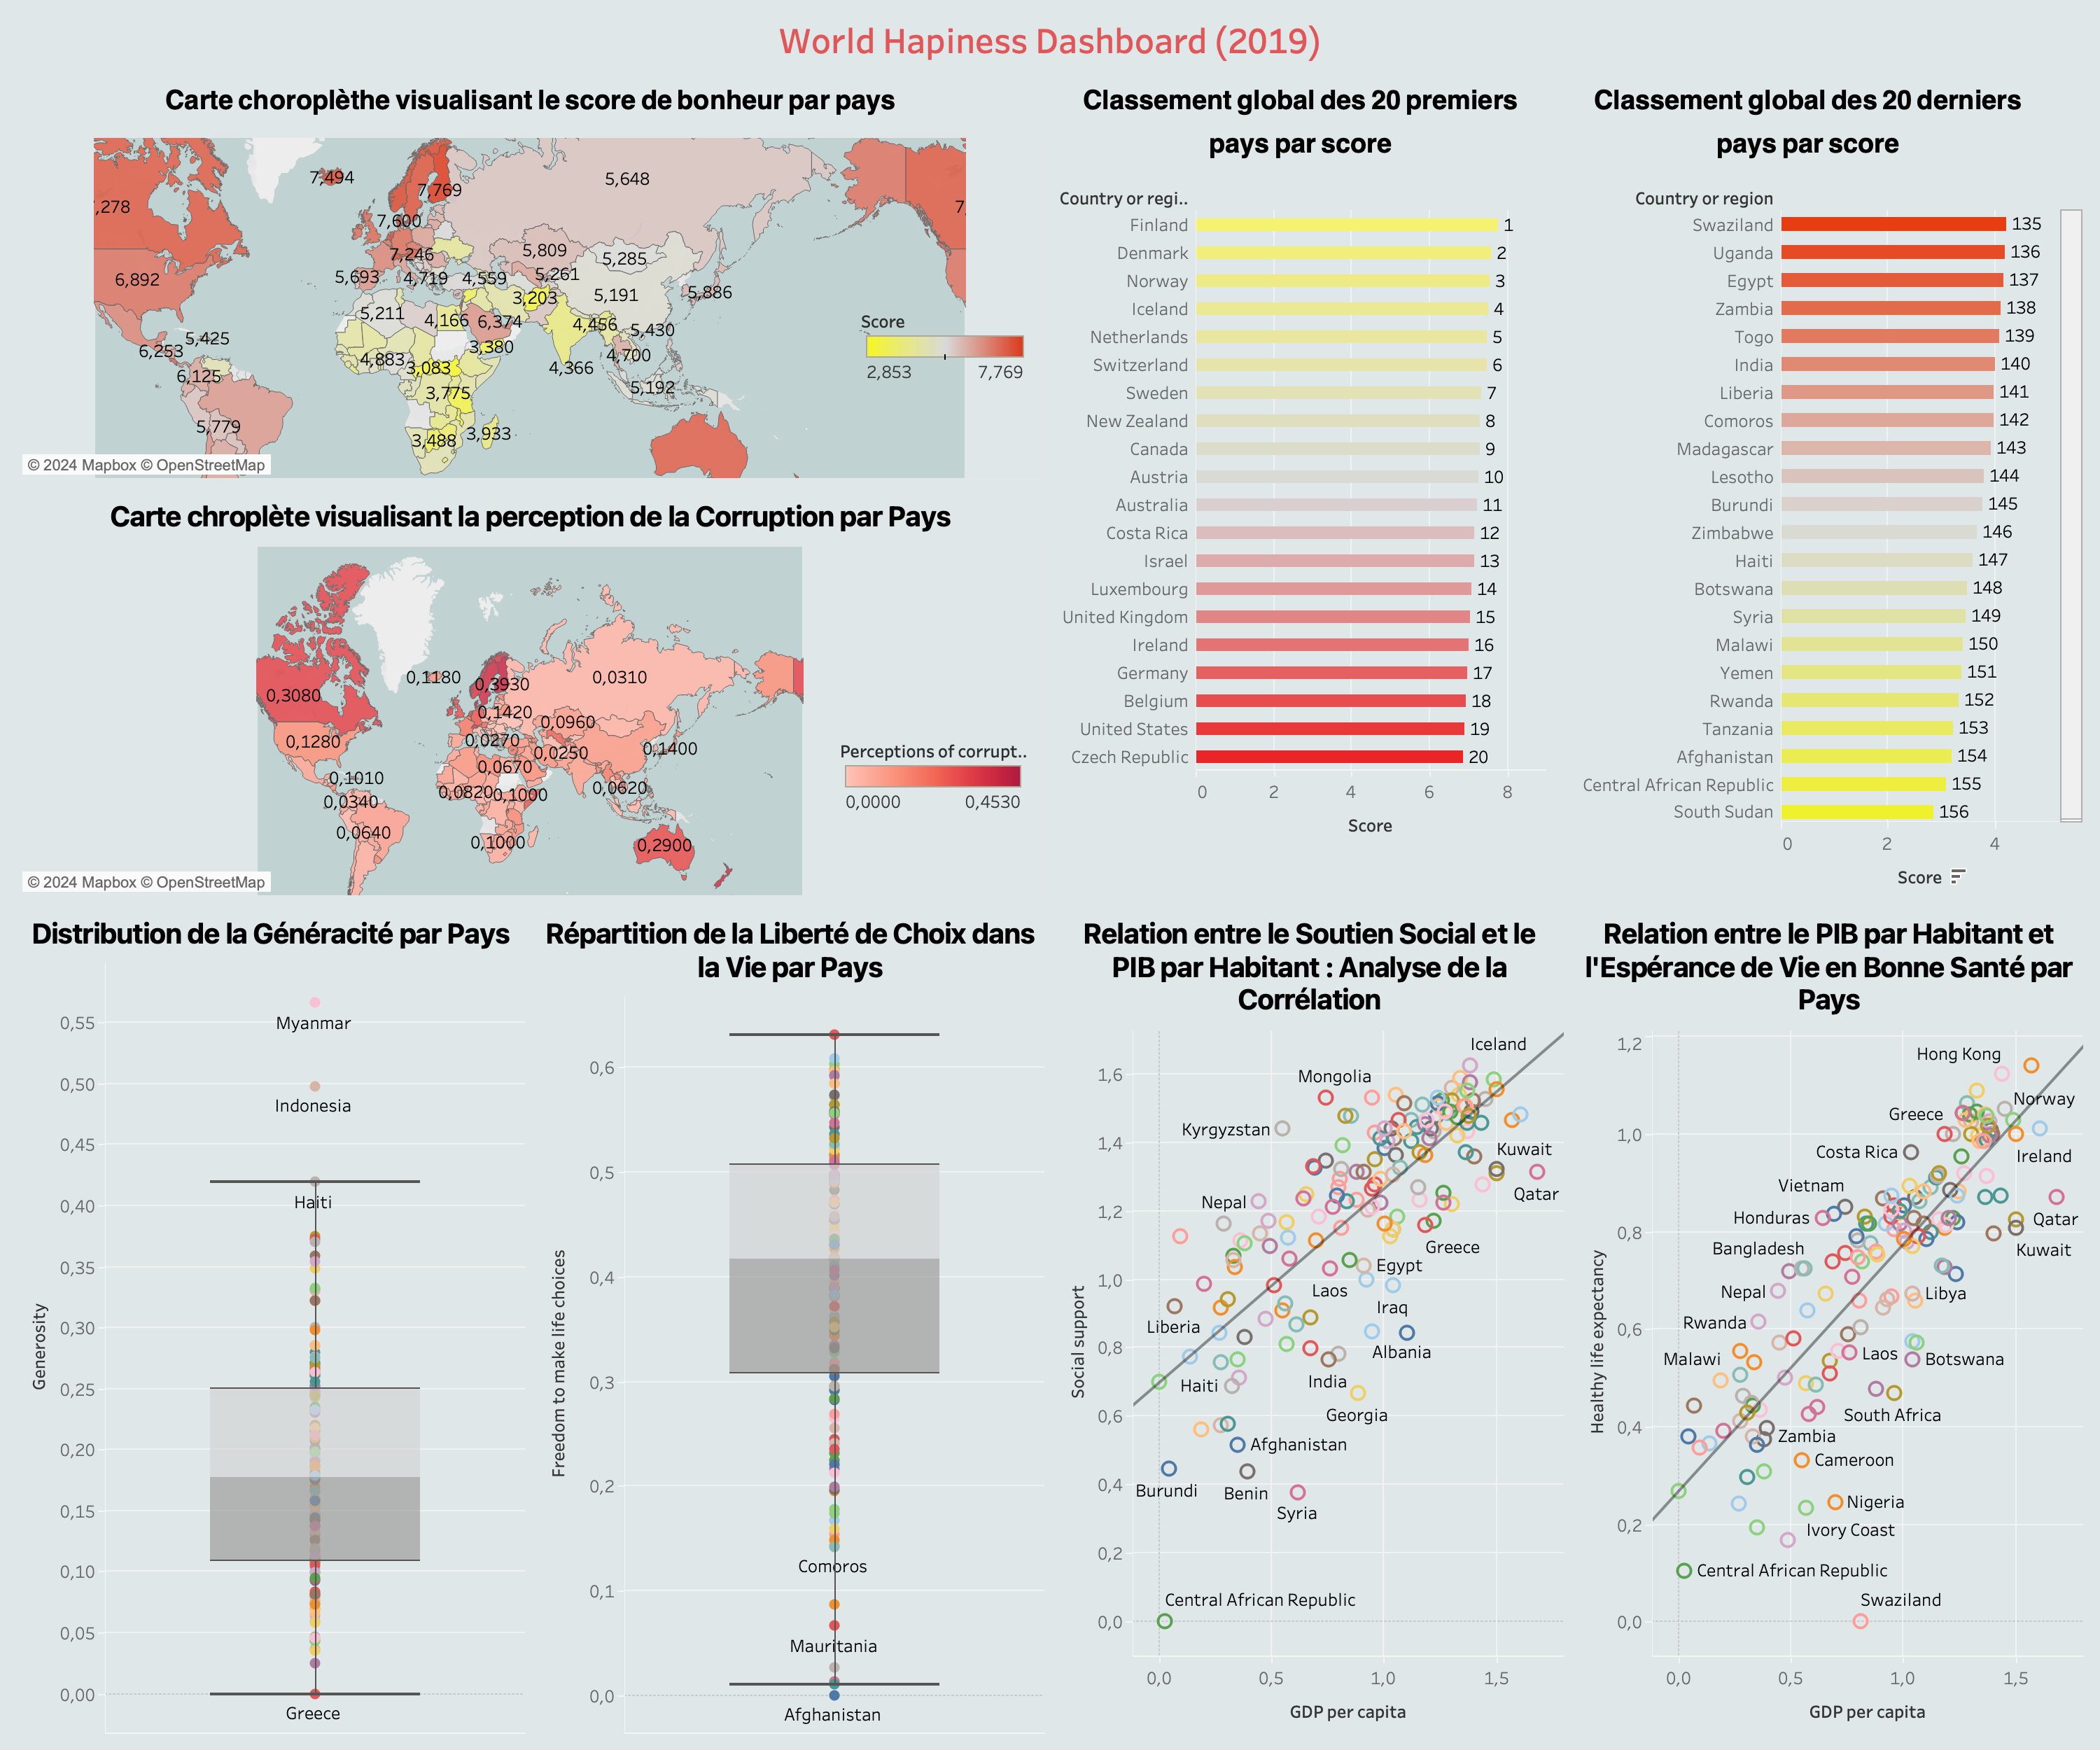

What the dashboard file says about the page in this screenshot:
{"tool":"tableau","page":{"name":"Tableau de bord 1","canvas":[1500,1250],"ordinal":0},"visuals":[{"type":"title","box":[8,8,1484,41]},{"type":"worksheet","title":"Carte","mark":"Multipolygon","box":[8,49,742,298.2]},{"type":"worksheet","title":"Classement","mark":"Bar","rows":["Country or region"],"cols":["Score"],"box":[750,49,358,596.5]},{"type":"worksheet","title":"Feuille 8","mark":"Automatic","rows":["Country or region"],"cols":["Score"],"box":[1108,49,384,596.5]},{"type":"legend","title":"Carte","param":"[federated.0d38yqx0vl0c0c1575q0n09ybwxd].[sum:Score:qk]","box":[615,217.5,121.2,87.5]},{"type":"worksheet","title":"Carte 2","mark":"Automatic","box":[8,347.2,742,298.3]},{"type":"legend","title":"Carte 2","param":"[federated.0d38yqx0vl0c0c1575q0n09ybwxd].[sum:Perceptions of corruption:qk]","box":[600,523.8,133.8,78.8]},{"type":"worksheet","title":"Box plot 1","mark":"Circle","rows":["Generosity"],"box":[8,645.5,370.9,596.5]},{"type":"worksheet","title":"Box plot 2","mark":"Circle","rows":["Freedom to make life choices"],"box":[378.9,645.5,371.1,596.5]},{"type":"worksheet","title":"Relation 1","mark":"Automatic","rows":["Social support"],"cols":["GDP per capita"],"box":[750,645.5,371,596.5]},{"type":"worksheet","title":"Relation ","mark":"Automatic","rows":["Healthy life expectancy"],"cols":["GDP per capita"],"box":[1121,645.5,371,596.5]}]}

Visuals, with their boxes in screenshot pixels (x1, y1, x2, y2), scaled from the page's 1500x1250 canvas onto the 2100x1750 screenshot:
title: 11,11,2089,69
"Carte" worksheet (Multipolygon marks): 11,69,1050,486
"Classement" worksheet (Bar marks): 1050,69,1551,904
"Feuille 8" worksheet: 1551,69,2089,904
"Carte" legend: 861,304,1030,427
"Carte 2" worksheet: 11,486,1050,904
"Carte 2" legend: 840,734,1028,843
"Box plot 1" worksheet (Circle marks): 11,904,531,1739
"Box plot 2" worksheet (Circle marks): 531,904,1050,1739
"Relation 1" worksheet: 1050,904,1569,1739
"Relation " worksheet: 1569,904,2089,1739
